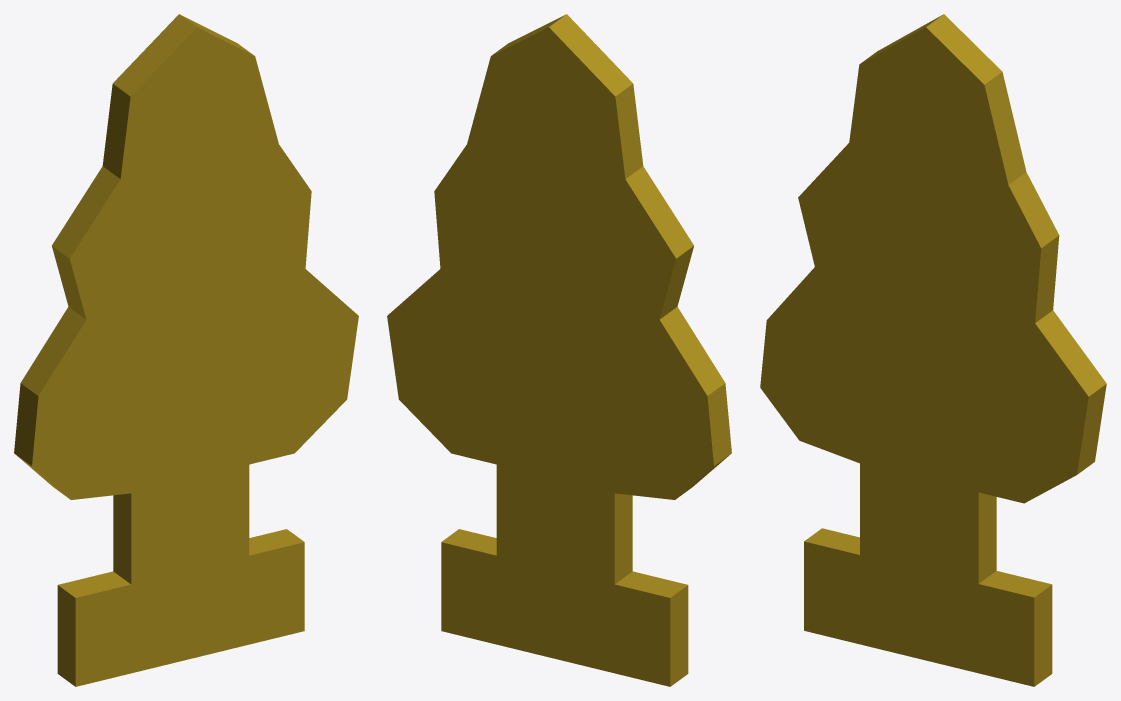
The model's file is SM_ScentTree.fbx.
3 views of the same model, side by side, from view 1: azimuth 30°, elevation 25°; view 2: azimuth 150°, elevation 25°; view 3: azimuth 330°, elevation 25° (orthographic).
Visible parts, largest first — view 1: ScentTree; view 2: ScentTree; view 3: ScentTree.
Part boxes in pixels (box(x1,y1,x2,y2)): ScentTree: box(14, 14, 358, 686); ScentTree: box(387, 14, 731, 686); ScentTree: box(760, 14, 1106, 686).
Bounding box in the file's own units: 0.173 × 0.3186 × 0.0164.
Materials: 1 (1 with a texture image).
